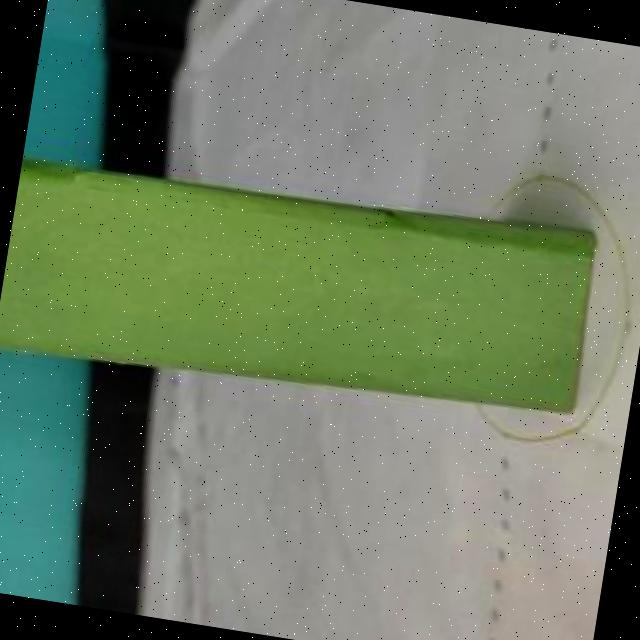greenbox: (0, 146, 599, 443)
